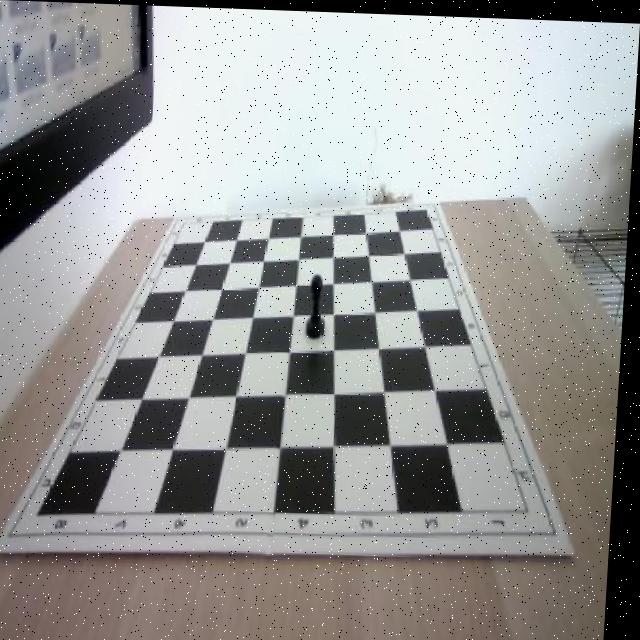black-knight: (307, 271, 331, 339)
